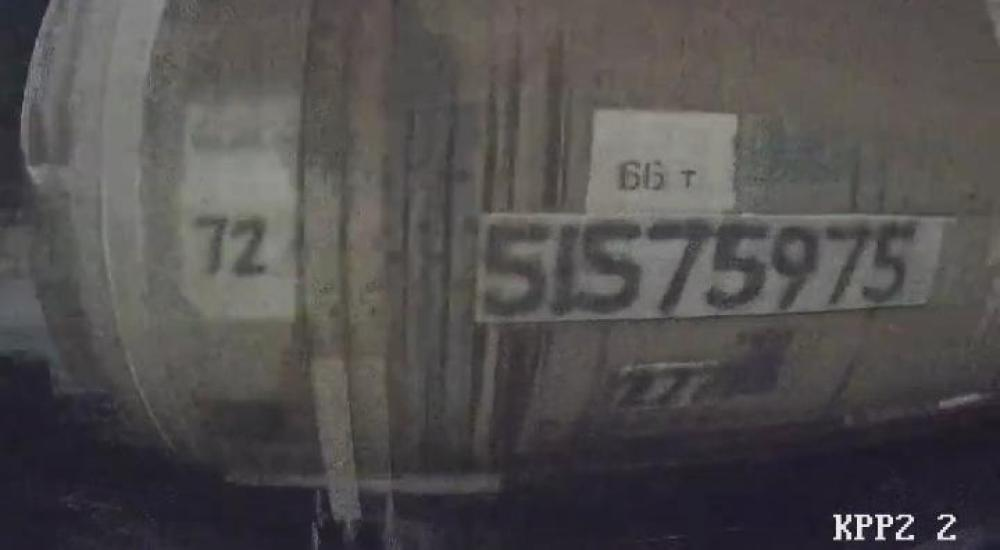Wagon-number: (476, 211, 927, 318)
